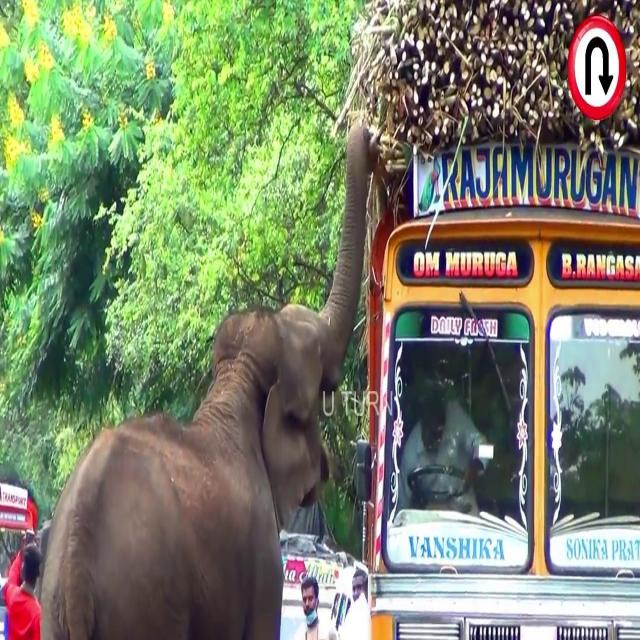Elephant: (38, 117, 380, 631)
